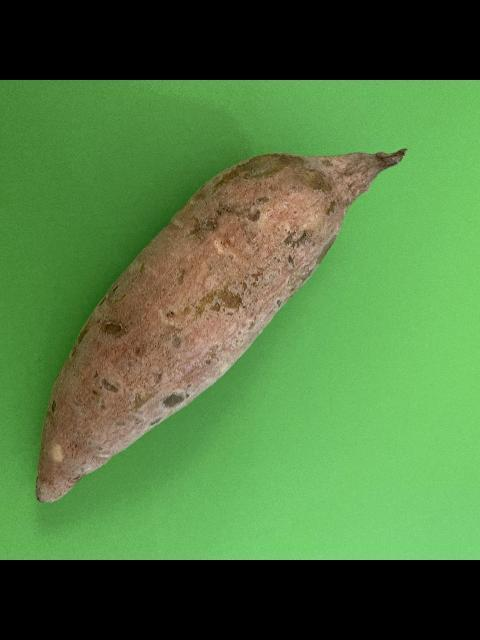sweetpotato: (34, 148, 410, 502)
